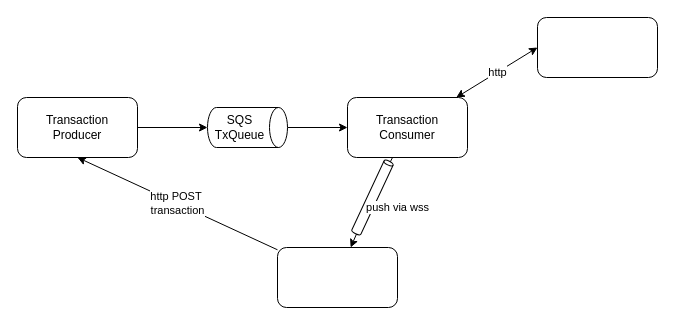
This 675x325 diagram has some shape labels left out. Each missing label, with the centre of its shape:
Mobile App Simulator: [337,277]
Transaction Validator: [597,47]
